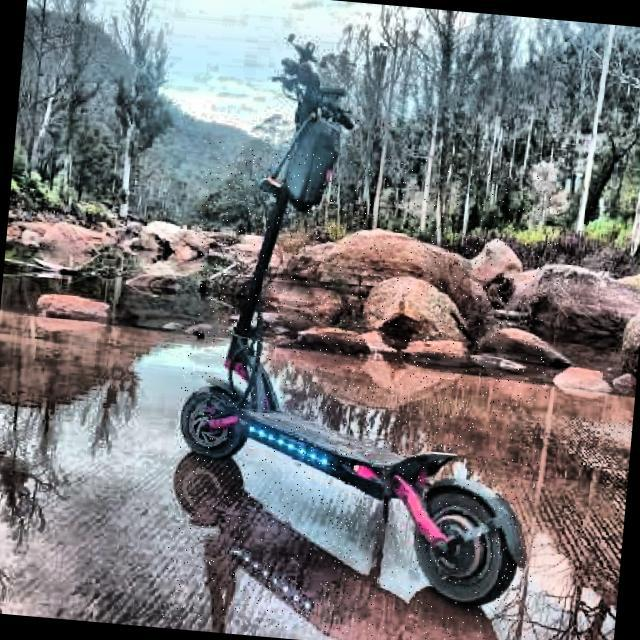bike: (178, 43, 527, 610)
car: (172, 451, 517, 640)
